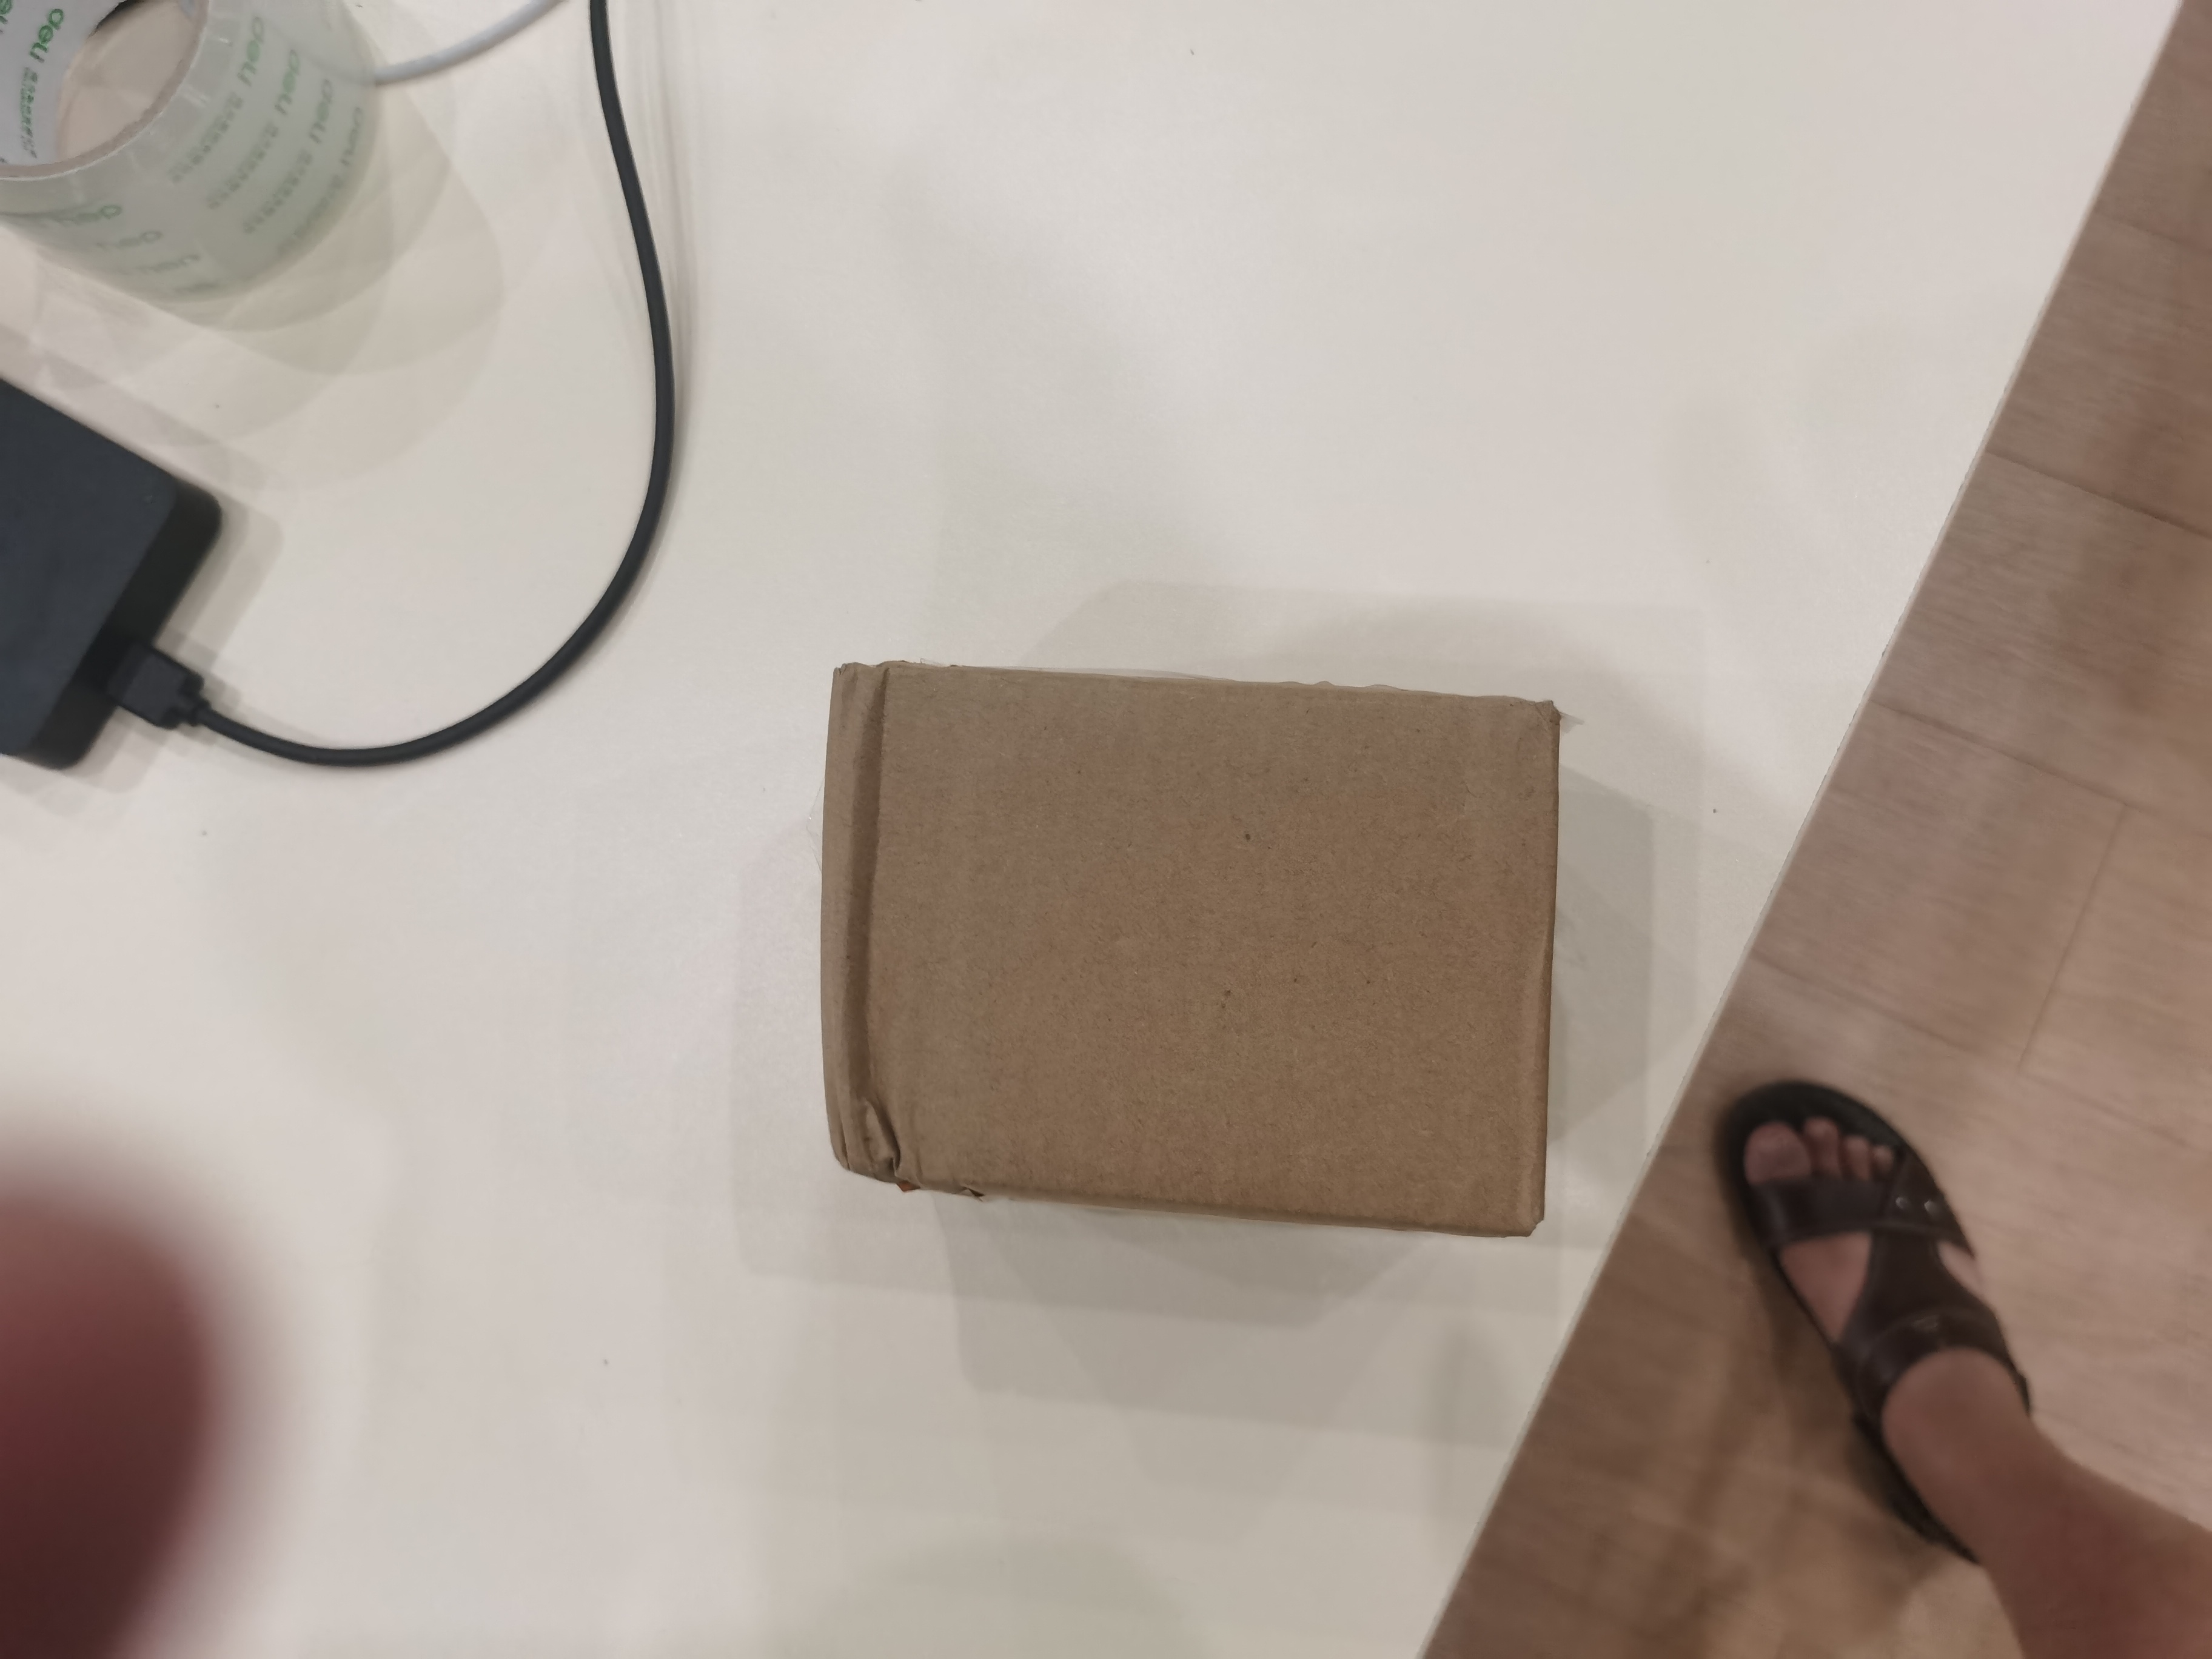box: (773, 636, 1616, 1305)
